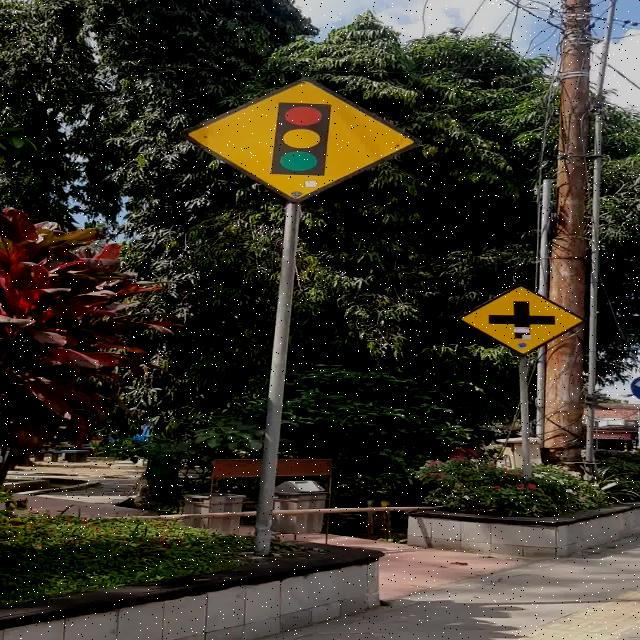Lampu Lalu Lintas: (180, 76, 422, 202)
